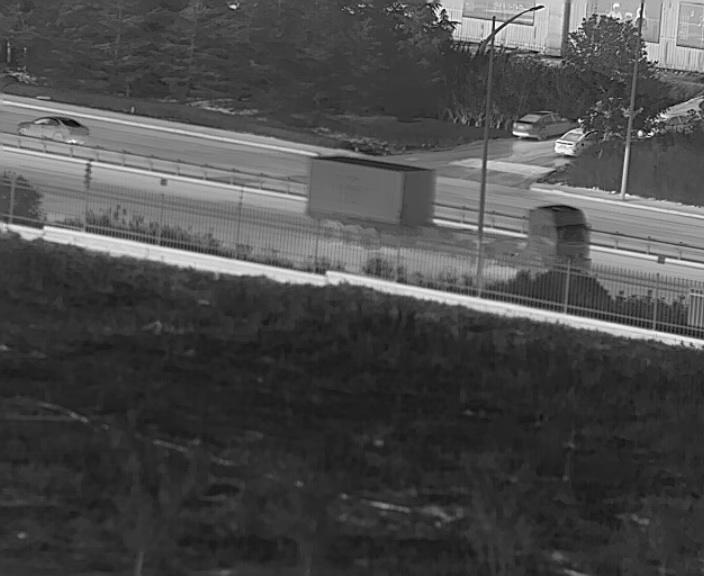vehicle: (306, 157, 588, 272), (17, 116, 90, 143), (513, 111, 569, 139), (555, 128, 586, 155)
